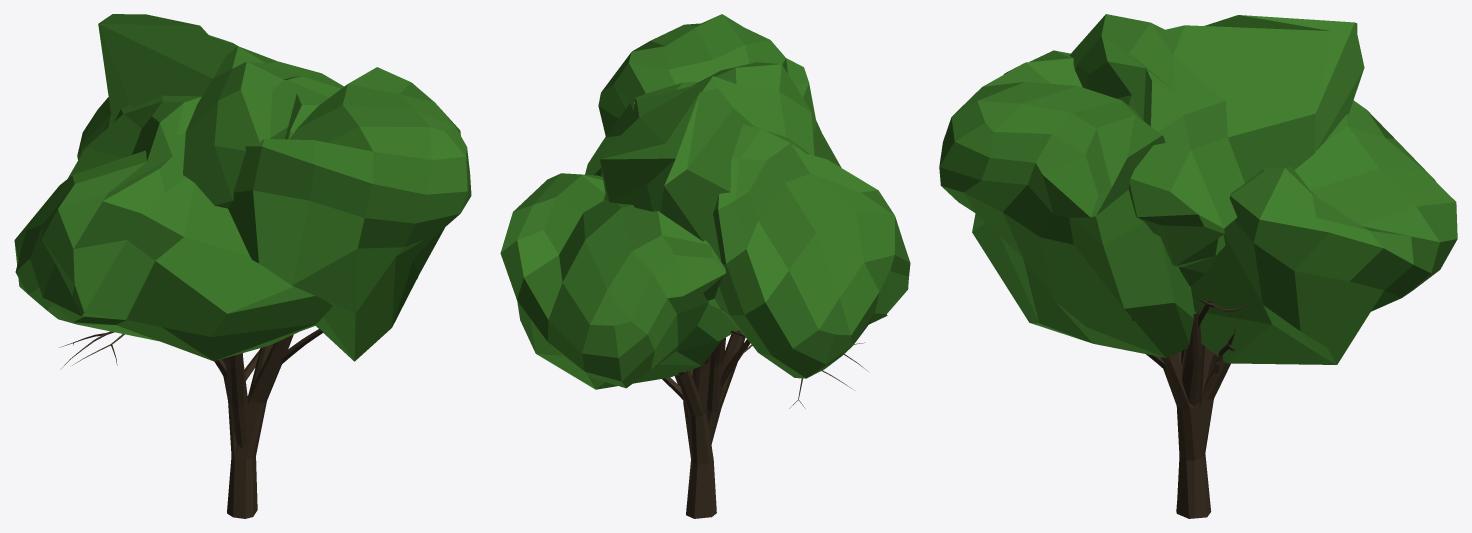
File: Tree_010.fbx
The picture shows the model from 3 angles, left to right: view 1: azimuth 30°, elevation 25°; view 2: azimuth 150°, elevation 25°; view 3: azimuth 270°, elevation 25°; orthographic projection. The views are drawn at different scales.
Visible parts, largest first — view 1: tree_010; view 2: tree_010; view 3: tree_010.
Part boxes in pixels (bbox=[...]): tree_010: bbox=[14, 14, 471, 518]; tree_010: bbox=[500, 14, 910, 518]; tree_010: bbox=[939, 14, 1457, 518].
Size of the model in its own units: 779 by 967 by 932.
